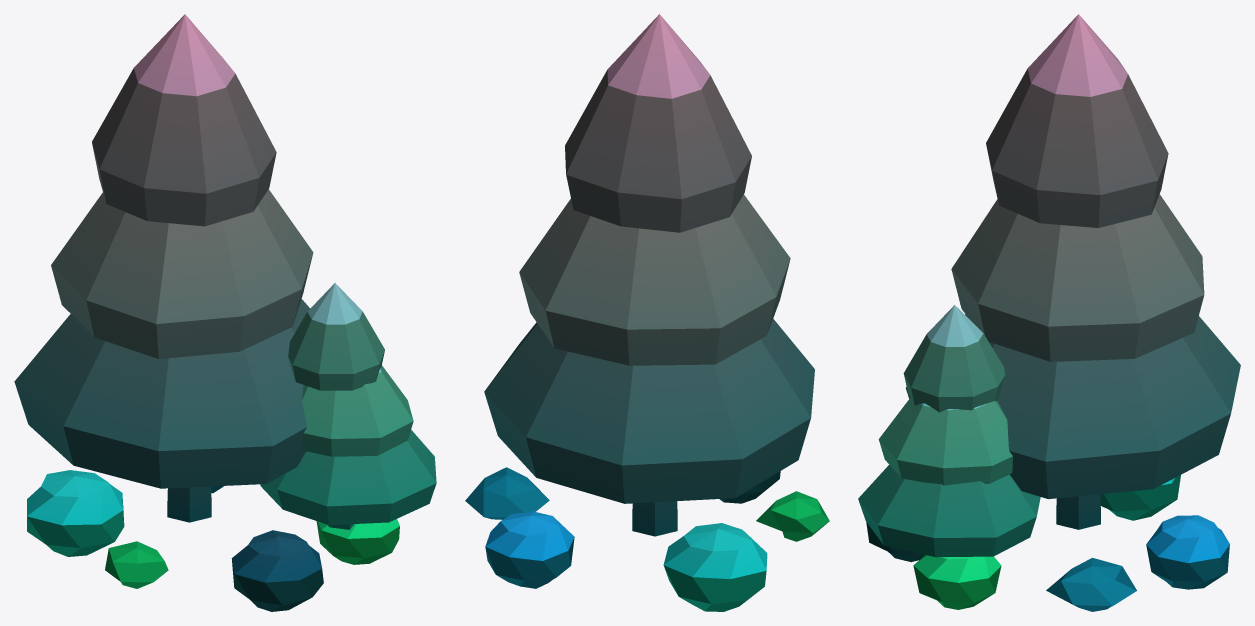
Rendered from frost_03.glb.
3 renders of one model, left to right at view 1: azimuth 30°, elevation 25°; view 2: azimuth 150°, elevation 25°; view 3: azimuth 270°, elevation 25°, orthographic. The views are drawn at different scales.
Visible parts, largest first — view 1: frost_03; view 2: frost_03; view 3: frost_03.
Boxes of the visible parts, box(x1,y1,x2,y2) form: frost_03: box(14, 14, 436, 611); frost_03: box(465, 14, 829, 611); frost_03: box(858, 14, 1240, 611).
Bounding box in the file's own units: 0.8925 × 1.46 × 0.94.
